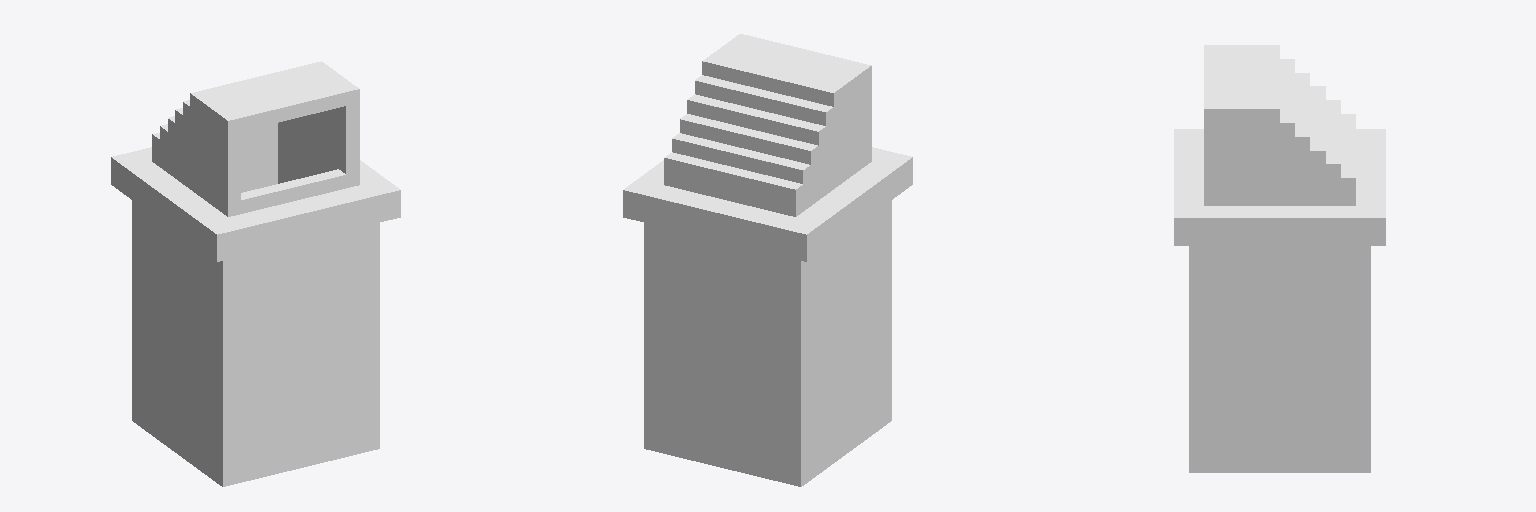
Rendered from rubbishbox.obj.
3 renders of one model, left to right at view 1: azimuth 30°, elevation 25°; view 2: azimuth 150°, elevation 25°; view 3: azimuth 270°, elevation 25°, orthographic.
Visible parts, largest first — view 1: object 1; view 2: object 1; view 3: object 1.
Part boxes in pixels (bbox=[...]): object 1: bbox=[111, 61, 400, 486]; object 1: bbox=[623, 34, 912, 486]; object 1: bbox=[1174, 45, 1385, 472].
Bounding box in the file's own units: 2.8 × 5.2 × 2.8.